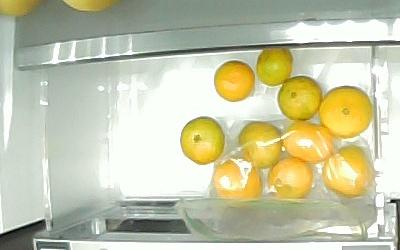tangerine: (318, 84, 373, 138), (179, 115, 225, 164), (276, 74, 322, 121), (213, 59, 255, 102), (255, 49, 293, 86)
tangerine_vinyl: (320, 143, 372, 198), (282, 119, 335, 163), (211, 155, 263, 199), (266, 154, 314, 199), (237, 120, 281, 169)
